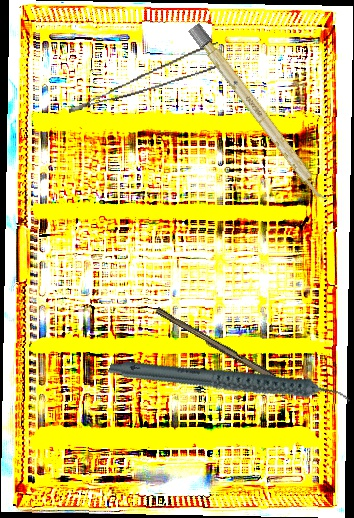Handpiece: (106, 312, 353, 457)
Scalpel Handle: (187, 22, 331, 206), (152, 306, 278, 383)
Tissue Forceps: (61, 42, 226, 113)
